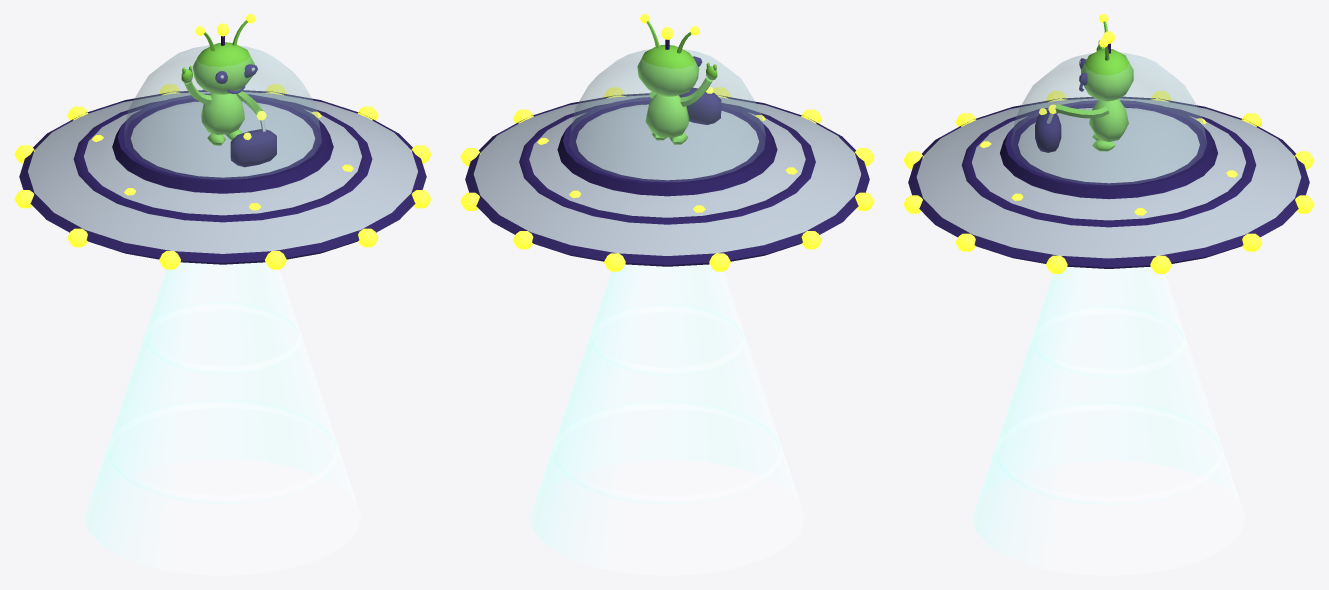
Rendered from ufo_flyer.glb.
3 views of the same model, side by side, from view 1: azimuth 30°, elevation 25°; view 2: azimuth 150°, elevation 25°; view 3: azimuth 270°, elevation 25° (orthographic).
Parts seen in each view (by area): view 1: body, beam; view 2: body, beam; view 3: body, beam.
Boxes of the visible parts, bbox=[...] form: body: bbox=[14, 14, 431, 269]; beam: bbox=[85, 262, 360, 575]; body: bbox=[460, 14, 874, 271]; beam: bbox=[530, 264, 804, 575]; body: bbox=[903, 14, 1314, 273]; beam: bbox=[973, 266, 1244, 575].
Size of the model in its own units: 3.14 by 4.18 by 3.16.
